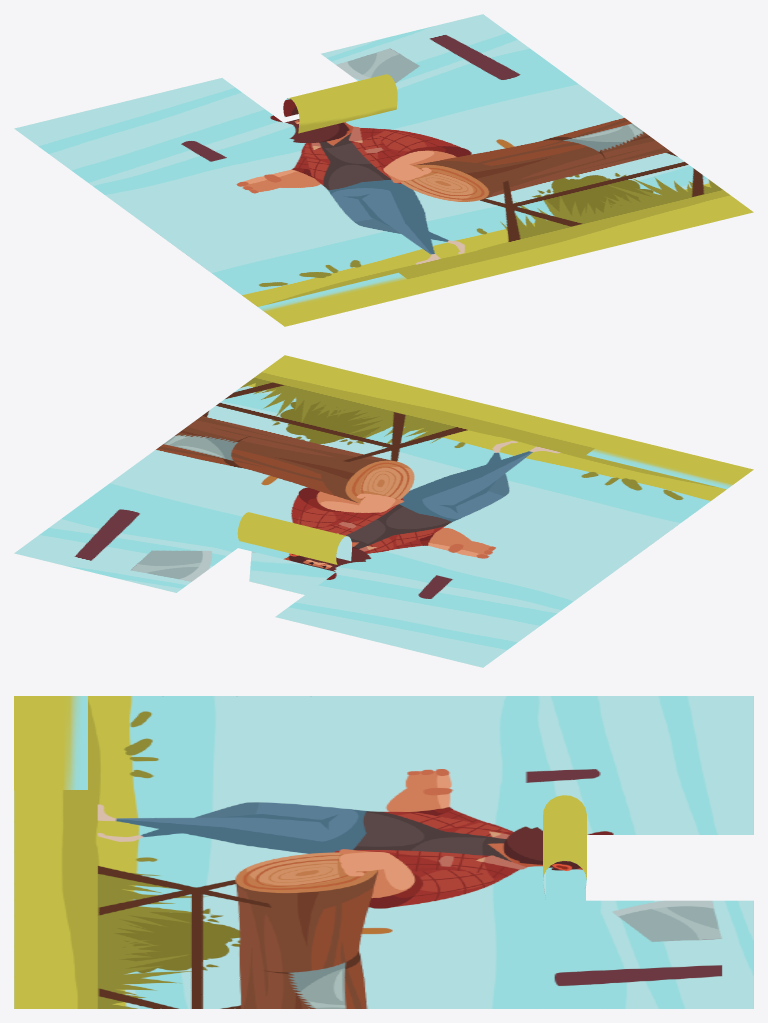
File: Level 77.fbx
3 views of the same model, one above another, from view 1: azimuth 30°, elevation 25°; view 2: azimuth 150°, elevation 25°; view 3: azimuth 270°, elevation 25° (orthographic). The views are drawn at different scales.
Parts seen in each view (by area): view 1: background, tank; view 2: background, tank; view 3: background, tank.
Boxes of the visible parts, x1=… form: background: x1=14, y1=14, x2=753, y2=326; tank: x1=283, y1=74, x2=397, y2=133; background: x1=14, y1=355, x2=753, y2=667; tank: x1=237, y1=512, x2=352, y2=594; background: x1=14, y1=696, x2=753, y2=1008; tank: x1=543, y1=795, x2=586, y2=899.
Bounding box in the file's own units: 2400 × 346 × 2400.
